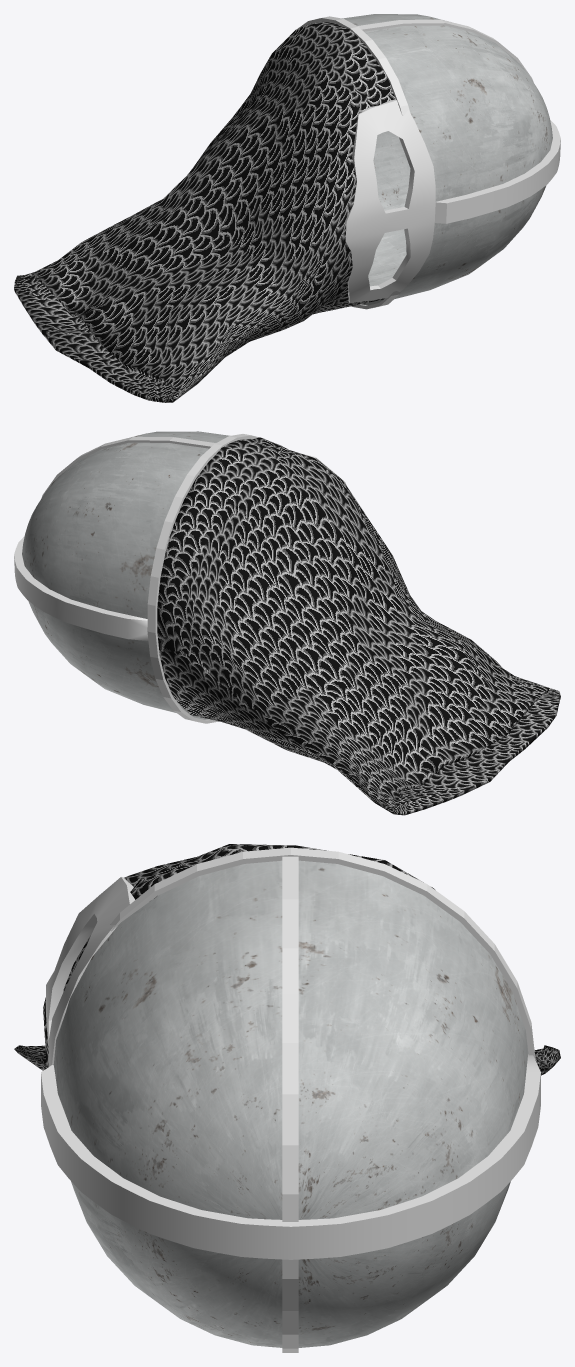
Rendered from Helmet3.fbx.
The picture shows the model from 3 angles, top to bottom: view 1: azimuth 30°, elevation 25°; view 2: azimuth 150°, elevation 25°; view 3: azimuth 270°, elevation 25°; orthographic projection. The views are drawn at different scales.
Visible parts, largest first — view 1: Helmet3_LOD0; view 2: Helmet3_LOD0; view 3: Helmet3_LOD0.
Part boxes in pixels (<box>): Helmet3_LOD0: <box>14,14,560,402</box>; Helmet3_LOD0: <box>14,431,560,815</box>; Helmet3_LOD0: <box>14,844,560,1352</box>.
Size of what is drawn, in the model's own units: 28.55 by 15.33 by 17.09.
